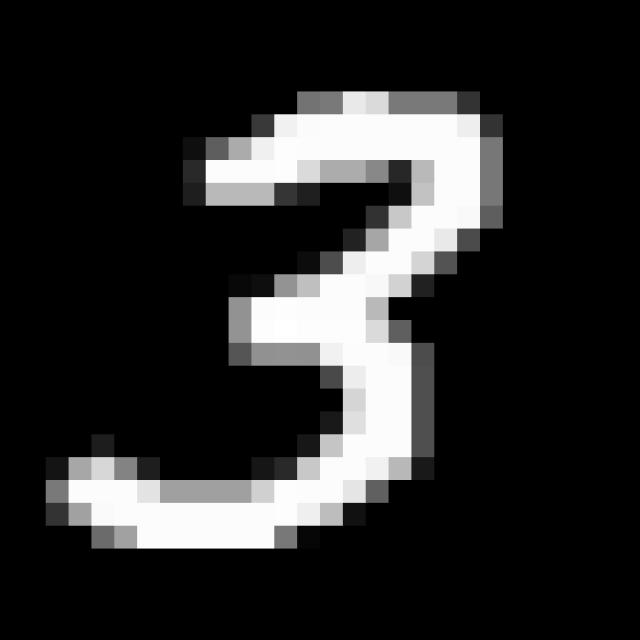three -3-: (41, 71, 516, 573)
